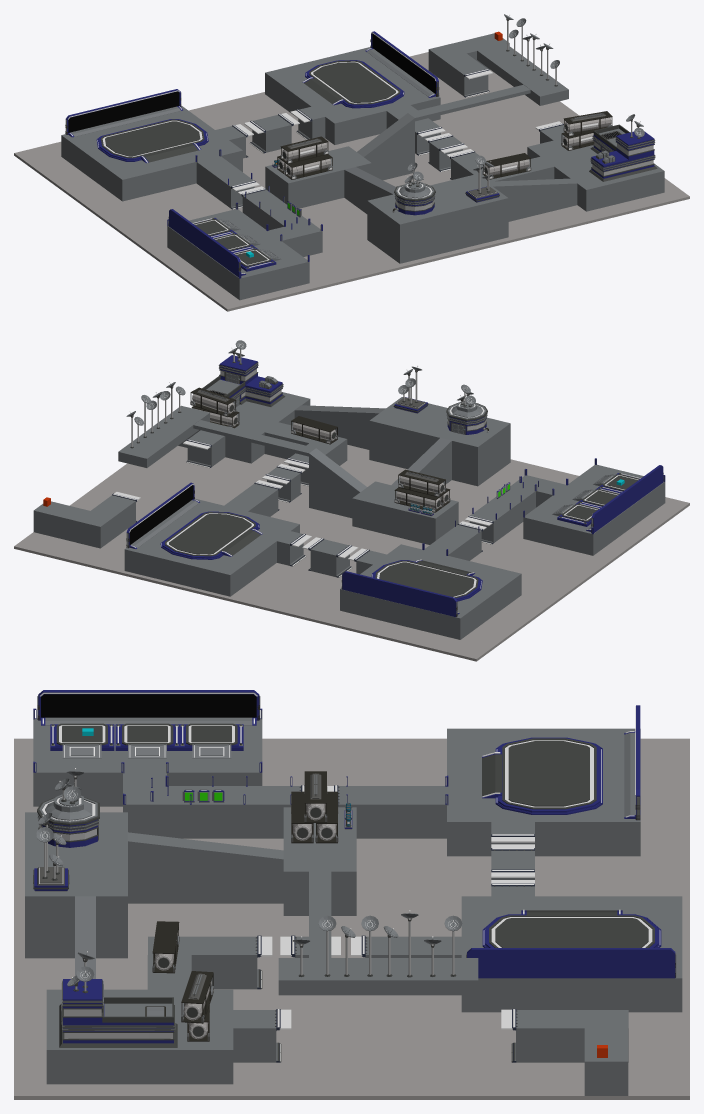
Rendered from room1.fbx.
The picture shows the model from 3 angles, top to bottom: view 1: azimuth 30°, elevation 25°; view 2: azimuth 150°, elevation 25°; view 3: azimuth 270°, elevation 25°; orthographic projection. The views are drawn at different scales.
Visible parts, largest first — view 1: path.001, ground.006, landing pad large.001, landing pad large.002, garage large.001, house 3.001, garage large.002, garage large.003, comms room.001, big fuel tank.004, big fuel tank.001, big fuel tank.006 (+5 smaller); view 2: path.001, ground.006, landing pad large.002, landing pad large.001, garage large.001, house 3.001, garage large.002, garage large.003, comms room.001, big fuel tank.004, big fuel tank.006, big fuel tank.001 (+4 smaller); view 3: path.001, ground.006, landing pad large.001, garage large.003, house 3.001, garage large.002, landing pad large.002, comms room.001, landing pad small.003, landing pad small.002, landing pad small.001, garage large.001 (+6 smaller).
Part boxes in pixels (box(x1,y1,x2,y2)): path.001: box(61, 33, 664, 300); ground.006: box(14, 52, 689, 311); landing pad large.001: box(96, 119, 208, 163); landing pad large.002: box(302, 60, 404, 108); garage large.001: box(65, 89, 182, 137); house 3.001: box(589, 124, 657, 181); garage large.002: box(365, 31, 439, 97); garage large.003: box(168, 209, 245, 276); comms room.001: box(394, 181, 435, 215); big fuel tank.004: box(280, 136, 328, 163); big fuel tank.001: box(563, 111, 612, 136); big fuel tank.006: box(482, 153, 531, 179); path.001: box(33, 392, 665, 639); ground.006: box(14, 445, 689, 661); landing pad large.002: box(160, 511, 262, 559); landing pad large.001: box(371, 559, 482, 601); garage large.001: box(341, 571, 459, 616); house 3.001: box(202, 355, 285, 406); garage large.002: box(126, 482, 199, 548); garage large.003: box(586, 465, 663, 532); comms room.001: box(446, 401, 487, 434); big fuel tank.004: box(398, 469, 445, 497); big fuel tank.006: box(291, 416, 337, 444); big fuel tank.001: box(190, 387, 236, 416); path.001: box(25, 718, 682, 1095); ground.006: box(14, 738, 689, 1099); landing pad large.001: box(482, 737, 602, 814); garage large.003: box(37, 690, 260, 725); house 3.001: box(59, 979, 177, 1047); garage large.002: box(466, 948, 676, 978); landing pad large.002: box(482, 909, 661, 947); comms room.001: box(37, 794, 99, 847); landing pad small.003: box(179, 723, 243, 758); landing pad small.002: box(115, 723, 179, 758); landing pad small.001: box(50, 723, 114, 758); garage large.001: box(624, 705, 640, 820).
Size of the model in its own units: 39805 by 31811 by 8098.
